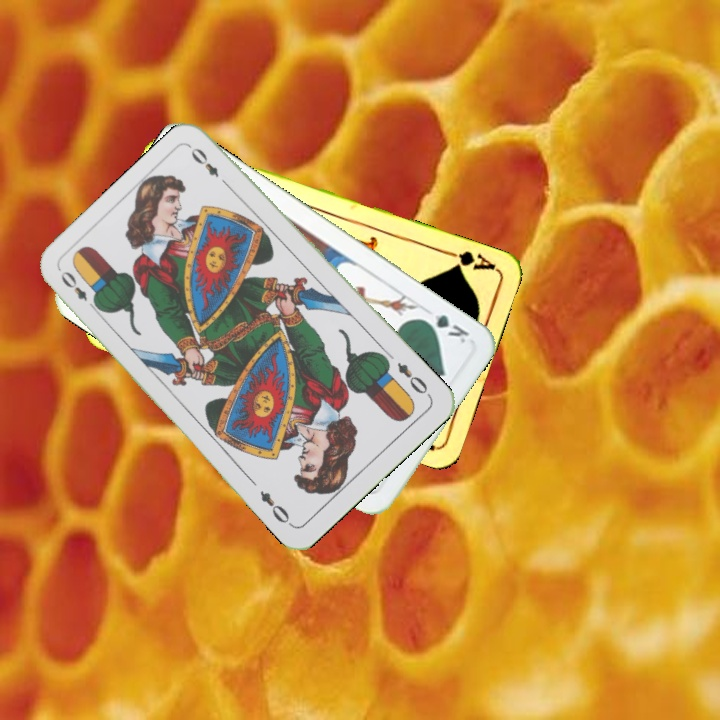EO: (56, 266, 101, 314), (393, 358, 434, 400)
GA: (440, 246, 498, 273)
GK: (416, 310, 472, 346)
